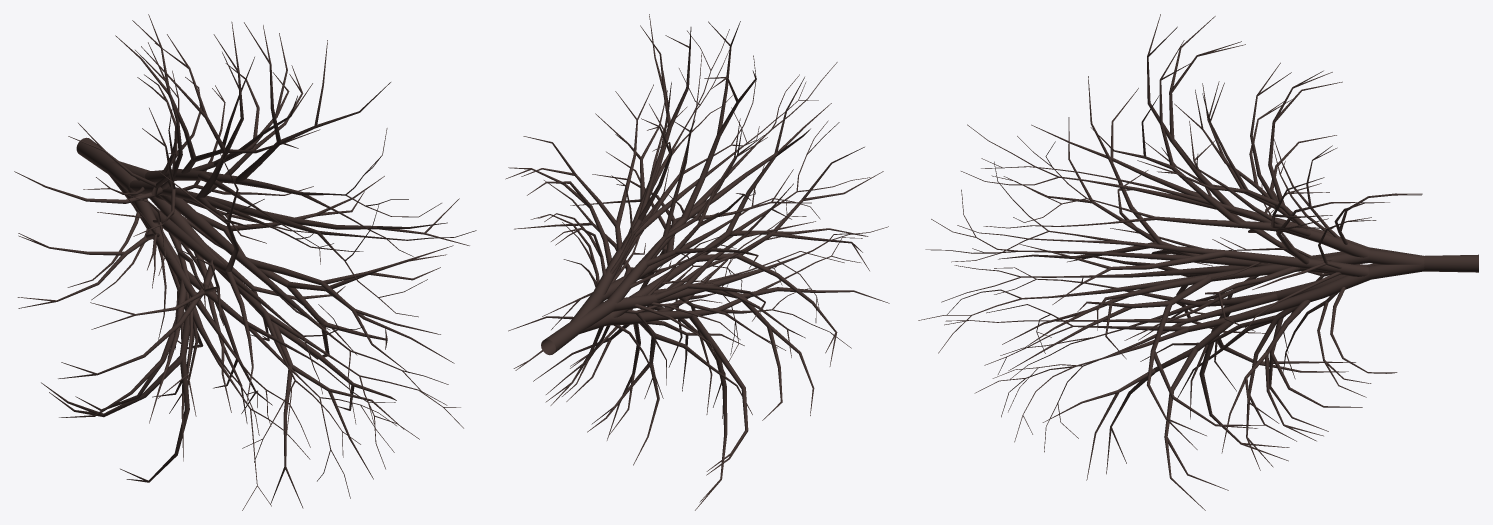
File: ArvoreMorta1.fbx
3 renders of one model, left to right at view 1: azimuth 30°, elevation 25°; view 2: azimuth 150°, elevation 25°; view 3: azimuth 270°, elevation 25°, orthographic. The views are drawn at different scales.
Parts seen in each view (by area): view 1: ArvoreMorta1; view 2: ArvoreMorta1; view 3: ArvoreMorta1.
Boxes of the visible parts, box(x1,y1,x2,y2) form: ArvoreMorta1: box(14, 14, 476, 510); ArvoreMorta1: box(505, 14, 889, 510); ArvoreMorta1: box(918, 14, 1478, 510).
Bounding box in the file's own units: 133 × 182 × 203.
